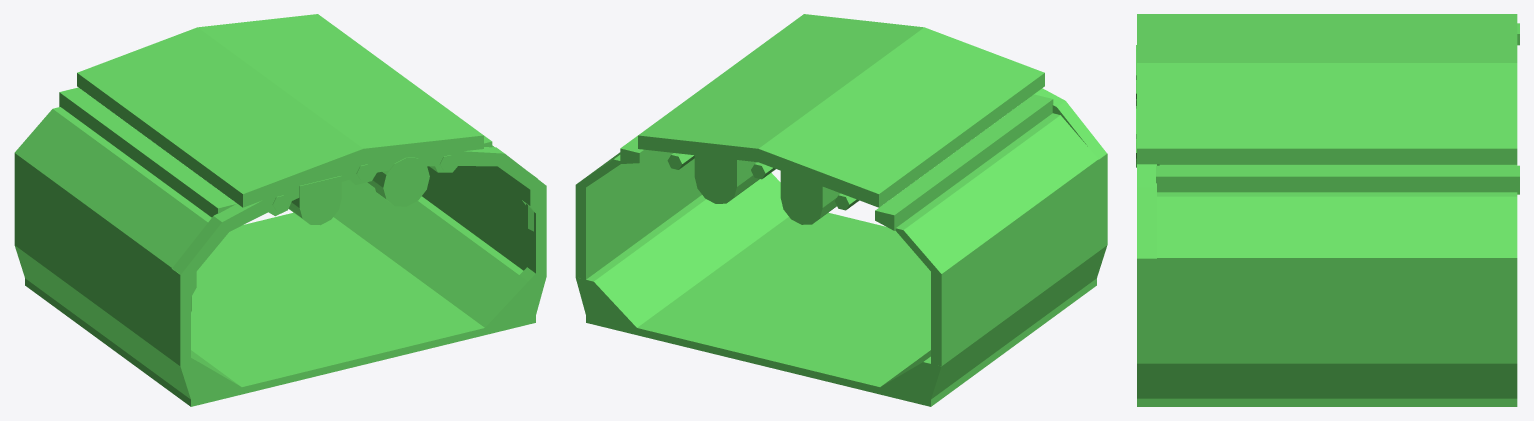
Rendered from env_minidungeon_straight04_col.fbx.
The picture shows the model from 3 angles, left to right: view 1: azimuth 30°, elevation 25°; view 2: azimuth 150°, elevation 25°; view 3: azimuth 270°, elevation 25°; orthographic projection. The views are drawn at different scales.
Visible parts, largest first — view 1: Cube.184, Cube.169, Cube.182, Cube.353, Cube.183, Cube.355, Cube.194, Cube.200, Cube.357, Cylinder.037, Cylinder.002, Cube.361 (+8 smaller); view 2: Cube.184, Cube.169, Cube.182, Cube.353, Cube.183, Cube.355, Cube.194, Cube.200, Cube.357, Cylinder.033, Cylinder.002, Cube.361 (+3 smaller); view 3: Cube.182, Cube.194, Cube.196, Cube.169, Cube.183, Cube.198, Cube.184, Cube.370, Cube.192, Cube.200, Cube.193, Cube.369 (+1 smaller).
Boxes of the visible parts, bbox=[...] form: Cube.184: bbox=[25, 212, 535, 406]; Cube.169: bbox=[77, 27, 363, 207]; Cube.182: bbox=[198, 14, 483, 162]; Cube.353: bbox=[14, 153, 172, 359]; Cube.183: bbox=[333, 180, 546, 327]; Cube.355: bbox=[14, 107, 211, 267]; Cube.194: bbox=[422, 166, 526, 270]; Cube.200: bbox=[14, 245, 241, 399]; Cube.357: bbox=[59, 87, 236, 217]; Cylinder.037: bbox=[373, 157, 429, 206]; Cylinder.002: bbox=[288, 176, 341, 225]; Cube.361: bbox=[172, 216, 228, 274]; Cube.184: bbox=[586, 212, 1096, 406]; Cube.169: bbox=[758, 27, 1044, 207]; Cube.182: bbox=[638, 14, 923, 162]; Cube.353: bbox=[931, 159, 1098, 366]; Cube.183: bbox=[575, 172, 788, 327]; Cube.355: bbox=[895, 113, 1098, 273]; Cube.194: bbox=[575, 151, 701, 279]; Cube.200: bbox=[880, 245, 1107, 399]; Cube.357: bbox=[875, 94, 1053, 230]; Cylinder.033: bbox=[694, 154, 759, 203]; Cylinder.002: bbox=[780, 170, 840, 224]; Cube.361: bbox=[1053, 101, 1106, 159]; Cube.182: bbox=[1137, 63, 1517, 164]; Cube.194: bbox=[1157, 258, 1517, 363]; Cube.196: bbox=[1157, 192, 1517, 257]; Cube.169: bbox=[1137, 14, 1517, 62]; Cube.183: bbox=[1137, 363, 1517, 398]; Cube.198: bbox=[1156, 165, 1519, 194]; Cube.184: bbox=[1137, 398, 1517, 406]; Cube.370: bbox=[1137, 187, 1156, 258]; Cube.192: bbox=[1137, 287, 1156, 356]; Cube.200: bbox=[1159, 164, 1517, 165]; Cube.193: bbox=[1137, 258, 1156, 287]; Cube.369: bbox=[1137, 164, 1156, 187].
Size of the model in its own units: 163 by 91.96 by 129.
